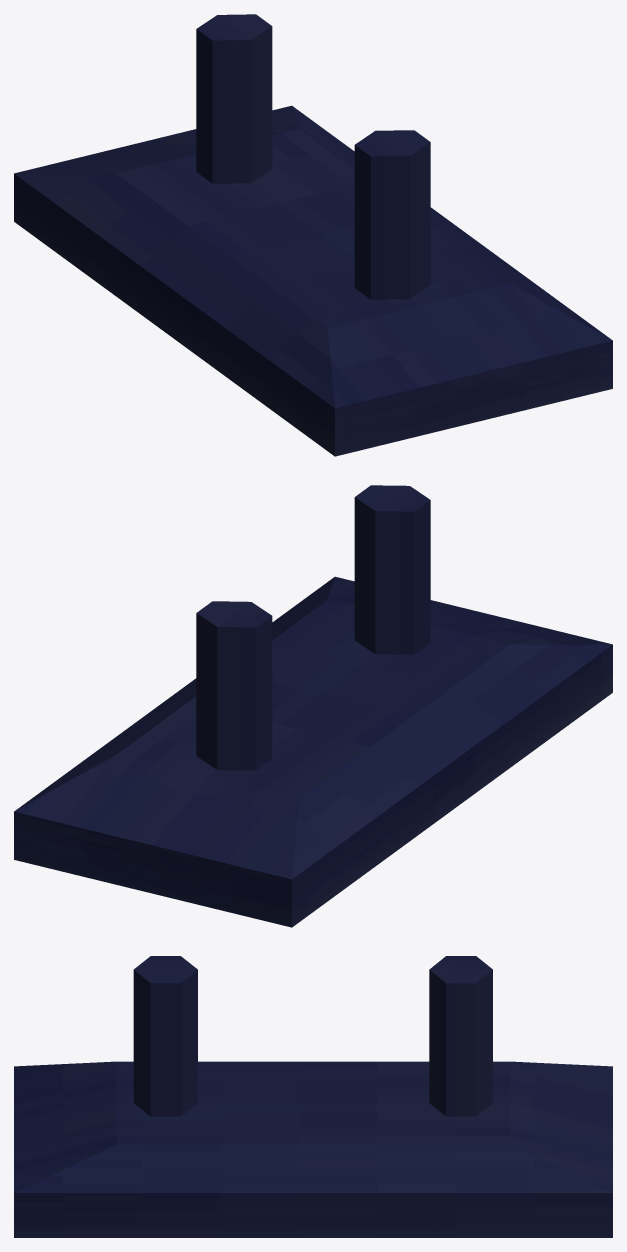
The model's file is CeilingLight.fbx.
The picture shows the model from 3 angles, top to bottom: view 1: azimuth 30°, elevation 25°; view 2: azimuth 150°, elevation 25°; view 3: azimuth 270°, elevation 25°; orthographic projection. The views are drawn at different scales.
Visible parts, largest first — view 1: Cube; view 2: Cube; view 3: Cube.
Part boxes in pixels (x1=…): Cube: x1=14, y1=14, x2=612, y2=456; Cube: x1=14, y1=485, x2=612, y2=927; Cube: x1=14, y1=956, x2=612, y2=1237.
Bounding box in the file's own units: 200 × 151 × 400.
